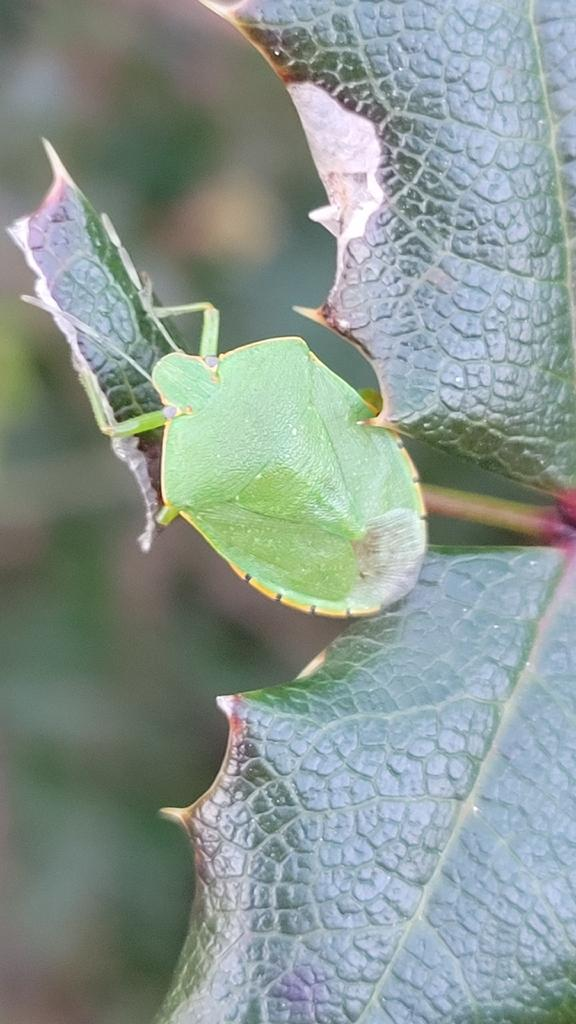stink_bugs: (0, 171, 563, 737)
